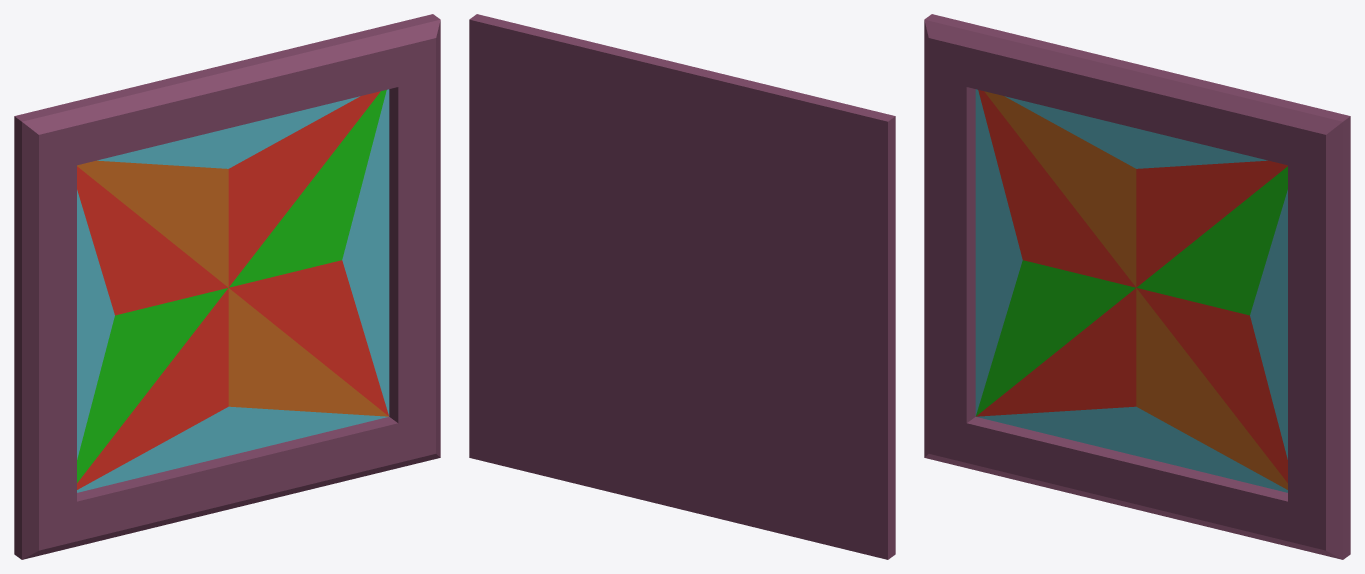
The model's file is Portrait_Material.fbx.
3 renders of one model, left to right at view 1: azimuth 30°, elevation 25°; view 2: azimuth 150°, elevation 25°; view 3: azimuth 330°, elevation 25°, orthographic.
Visible parts, largest first — view 1: Portrait; view 2: Portrait; view 3: Portrait.
Part boxes in pixels (x1=…): Portrait: x1=14, y1=14, x2=440, y2=559; Portrait: x1=469, y1=14, x2=895, y2=559; Portrait: x1=924, y1=14, x2=1350, y2=559.
Size of the model in its own units: 0.5082 by 0.5082 by 0.0291.
